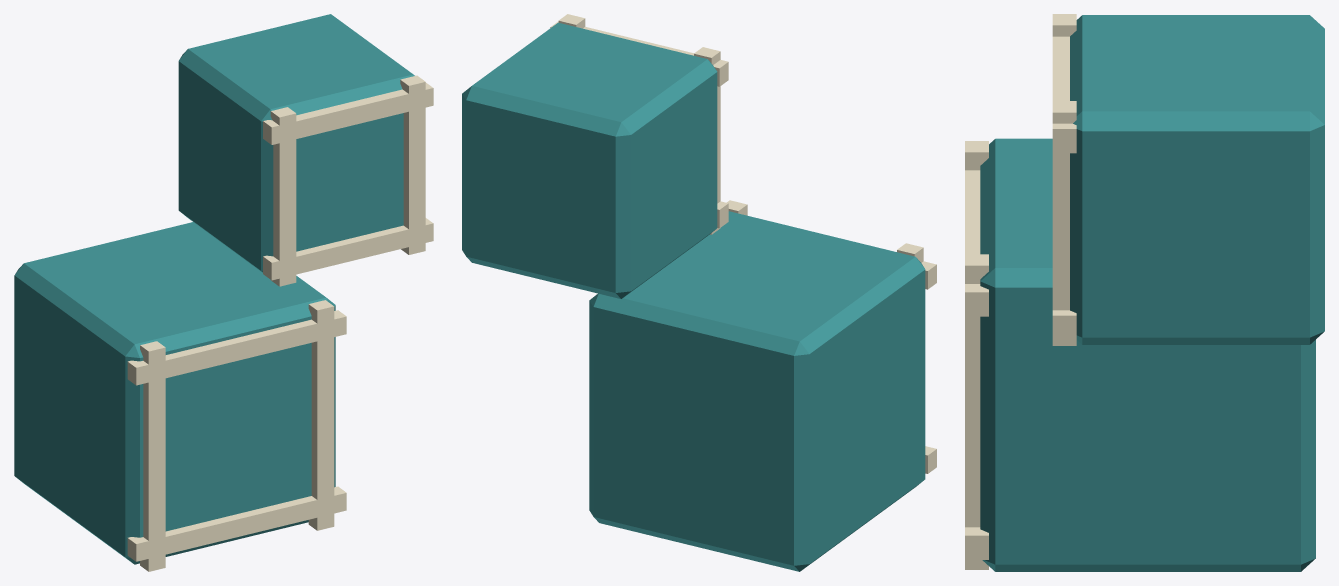
The model's file is crates.glb.
3 renders of one model, left to right at view 1: azimuth 30°, elevation 25°; view 2: azimuth 150°, elevation 25°; view 3: azimuth 270°, elevation 25°, orthographic. The views are drawn at different scales.
Visible parts, largest first — view 1: Painted crate, Painted crate.001, Crate framing.002, Crate framing.003, Crate framing.001, Crate framing, Crate framing.006, Crate framing.007, Crate framing.004, Crate framing.005; view 2: Painted crate, Painted crate.001, Crate framing.004, Crate framing.007; view 3: Painted crate, Painted crate.001, Crate framing.001, Crate framing.005, Crate framing.003, Crate framing.007, Crate framing.002, Crate framing.006, Crate framing, Crate framing.004.
Part boxes in pixels (x1,y1,x2,y2): Painted crate: [14, 222, 335, 564]; Painted crate.001: [178, 14, 414, 272]; Crate framing.002: [127, 486, 346, 561]; Crate framing.003: [127, 310, 346, 385]; Crate framing.001: [308, 300, 334, 530]; Crate framing: [140, 341, 165, 571]; Crate framing.006: [263, 218, 433, 280]; Crate framing.007: [263, 82, 433, 144]; Crate framing.004: [270, 107, 296, 286]; Crate framing.005: [400, 75, 425, 254]; Painted crate: [589, 211, 925, 571]; Painted crate.001: [462, 22, 717, 298]; Crate framing.004: [694, 47, 720, 234]; Crate framing.007: [550, 21, 728, 86]; Painted crate: [980, 138, 1315, 571]; Painted crate.001: [1070, 15, 1324, 344]; Crate framing.001: [965, 254, 988, 569]; Crate framing.005: [1052, 101, 1076, 345]; Crate framing.003: [965, 170, 988, 316]; Crate framing.007: [1052, 36, 1076, 153]; Crate framing.002: [965, 527, 988, 559]; Crate framing.006: [1052, 310, 1076, 339]; Crate framing: [965, 141, 988, 170]; Crate framing.004: [1052, 14, 1076, 36].
Bounding box in the file's own units: 0.875 × 0.995 × 0.6006.
